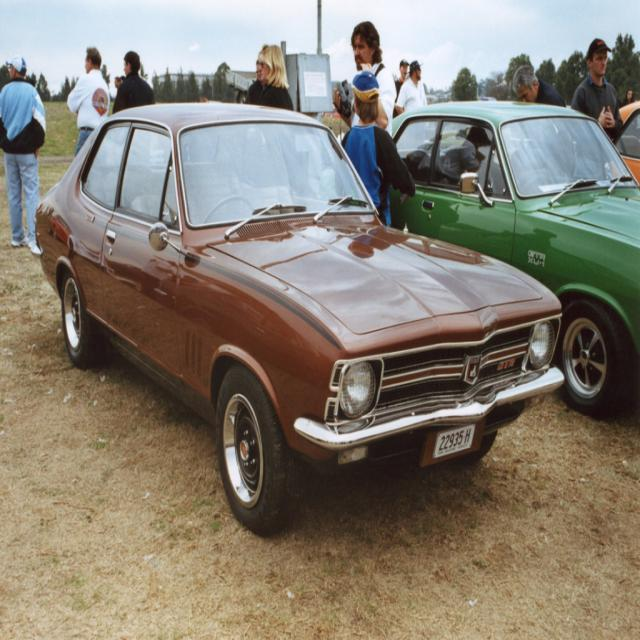car: (33, 102, 565, 533)
